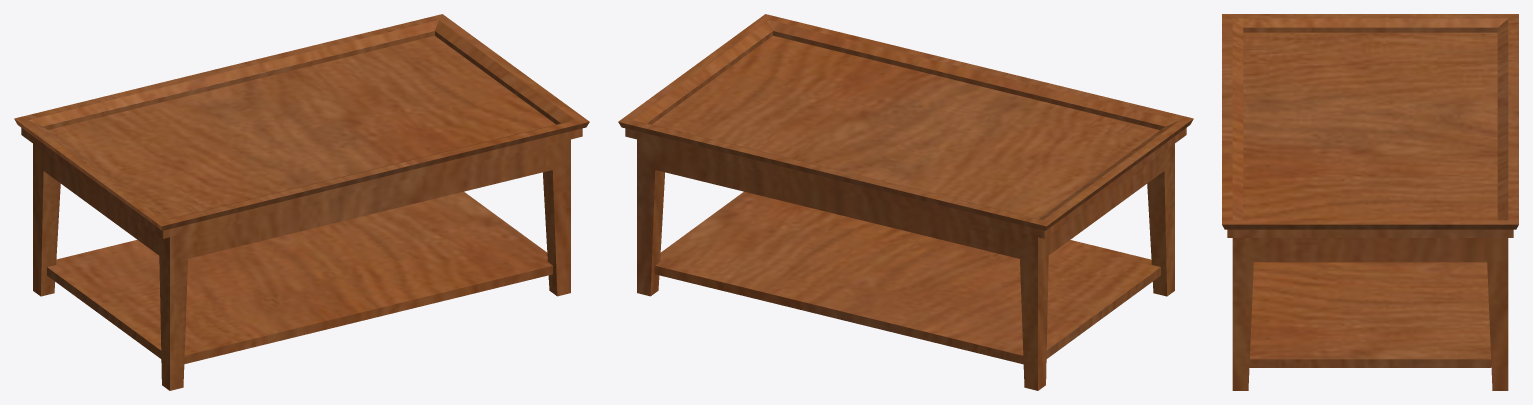
The model's file is table.glb.
3 views of the same model, side by side, from view 1: azimuth 30°, elevation 25°; view 2: azimuth 150°, elevation 25°; view 3: azimuth 270°, elevation 25° (orthographic).
Visible parts, largest first — view 1: ID46, ID24, SketchUp, ID38; view 2: ID46, ID24, SketchUp, ID38; view 3: ID24, ID46, SketchUp, ID38.
Part boxes in pixels (x1=…): ID46: x1=33, y1=139, x2=570, y2=390; ID24: x1=29, y1=20, x2=574, y2=220; SketchUp: x1=14, y1=14, x2=589, y2=230; ID38: x1=21, y1=128, x2=582, y2=238; ID46: x1=637, y1=139, x2=1174, y2=390; ID24: x1=633, y1=20, x2=1178, y2=220; SketchUp: x1=618, y1=14, x2=1193, y2=230; ID38: x1=625, y1=128, x2=1186, y2=238; ID24: x1=1232, y1=18, x2=1508, y2=220; ID46: x1=1232, y1=238, x2=1508, y2=390; SketchUp: x1=1222, y1=14, x2=1518, y2=229; ID38: x1=1227, y1=229, x2=1513, y2=237.
Size of the model in its own units: 1.19 by 0.4572 by 0.7112.
Materials: 21 (4 with a texture image).
